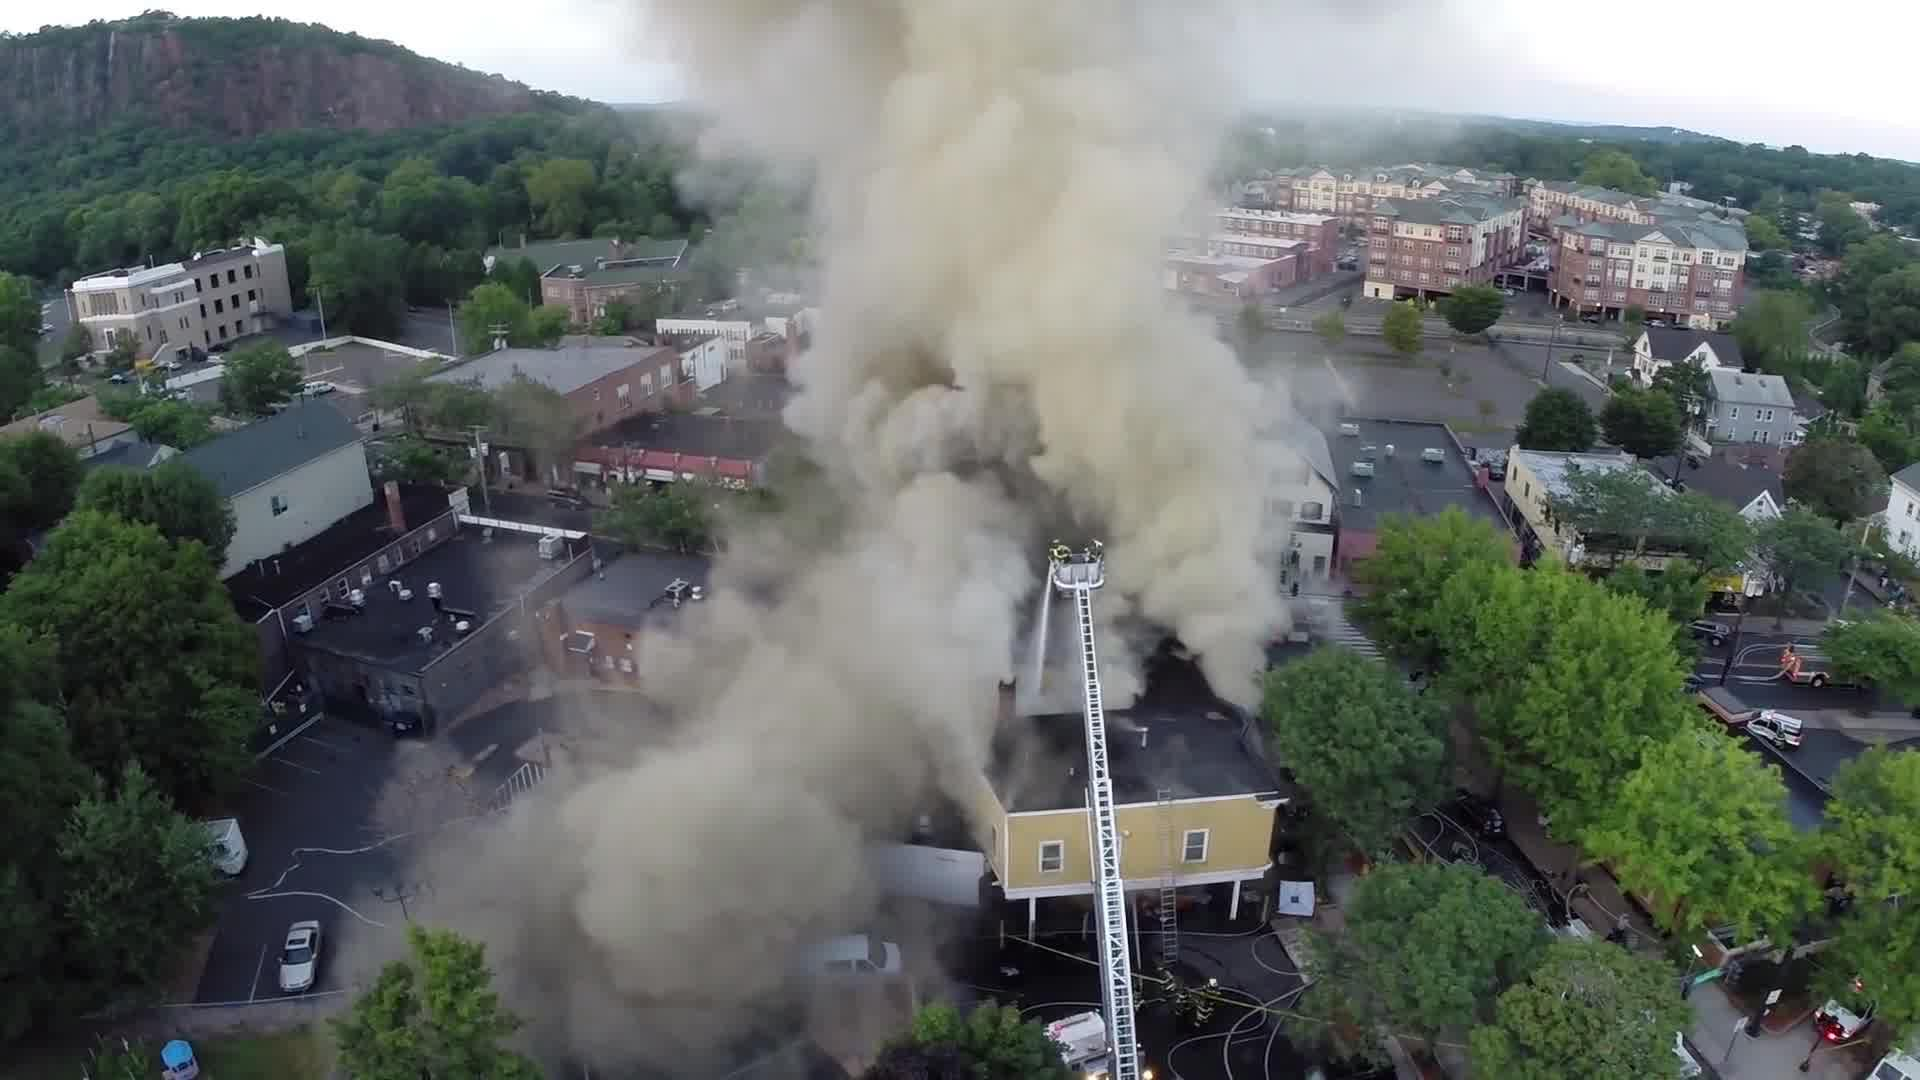smoke: (807, 13, 1147, 340), (915, 355, 1245, 542), (659, 637, 855, 909)
